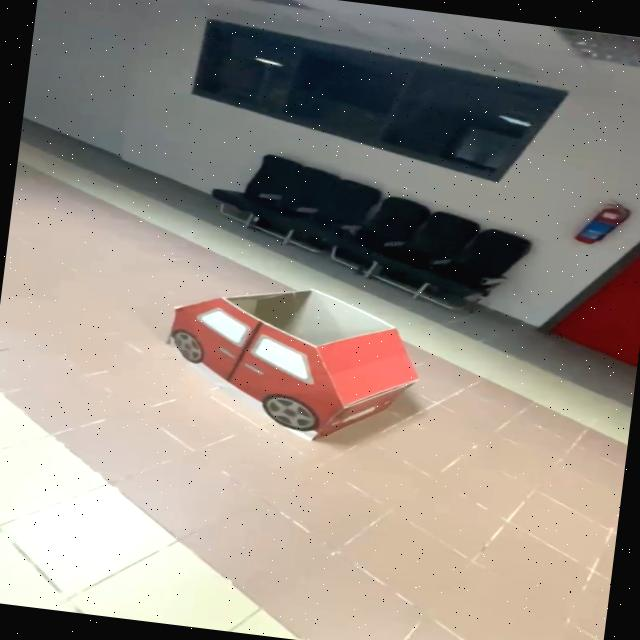red_car: (84, 251, 481, 477)
